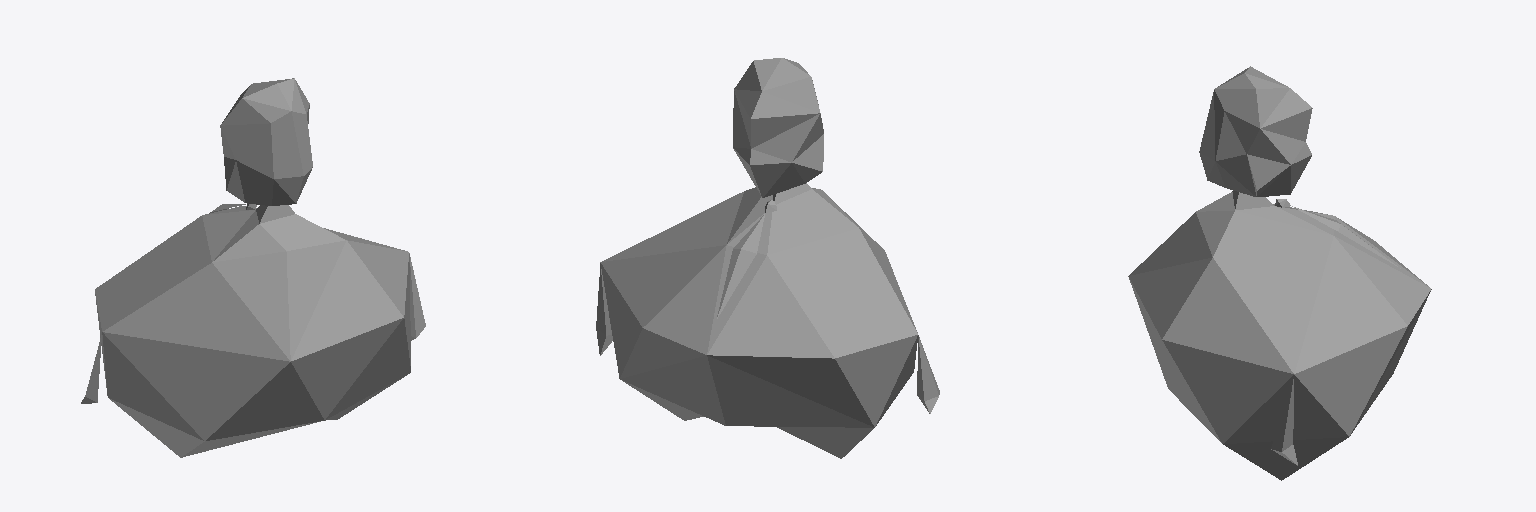
The model's file is body_fatty.obj.
The picture shows the model from 3 angles: view 1: azimuth 30°, elevation 25°; view 2: azimuth 150°, elevation 25°; view 3: azimuth 270°, elevation 25°; orthographic projection.
Parts seen in each view (by area): view 1: Mesh_Cube; view 2: Mesh_Cube; view 3: Mesh_Cube.
Boxes of the visible parts, x1,y1,x2,y2 form: Mesh_Cube: [81, 78, 425, 457]; Mesh_Cube: [596, 58, 939, 458]; Mesh_Cube: [1128, 66, 1431, 480].
Size of the model in its own units: 2.95 by 3.04 by 2.26.